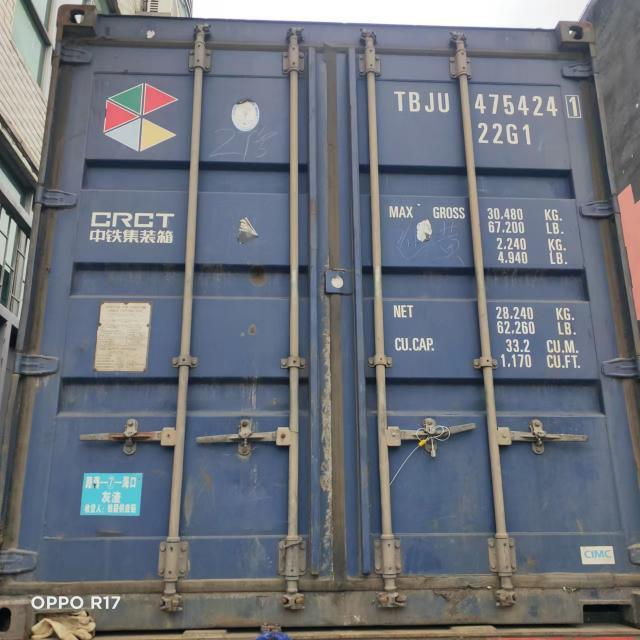ISO: (478, 122, 532, 148)
container_number: (398, 92, 576, 118)
